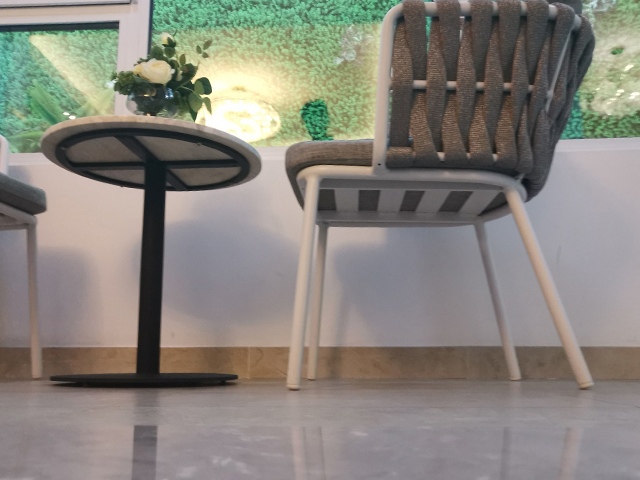stool: (282, 1, 598, 394), (1, 134, 49, 383)
table: (39, 112, 264, 387)
